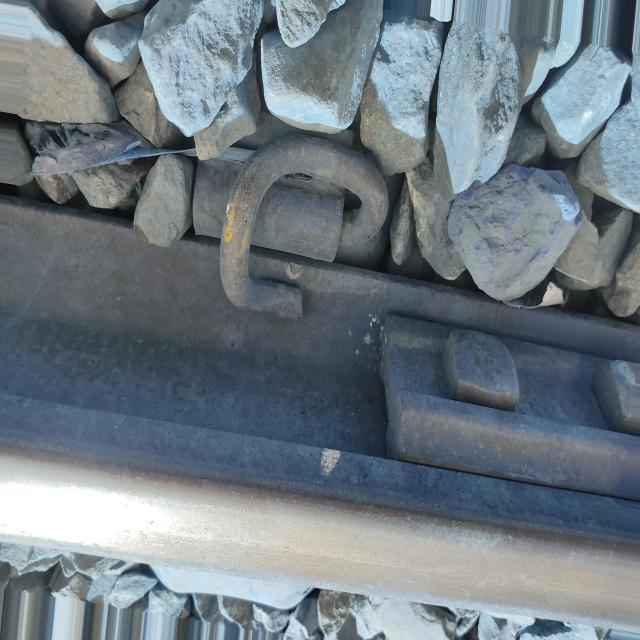Good Fasteners: (193, 134, 388, 317)
